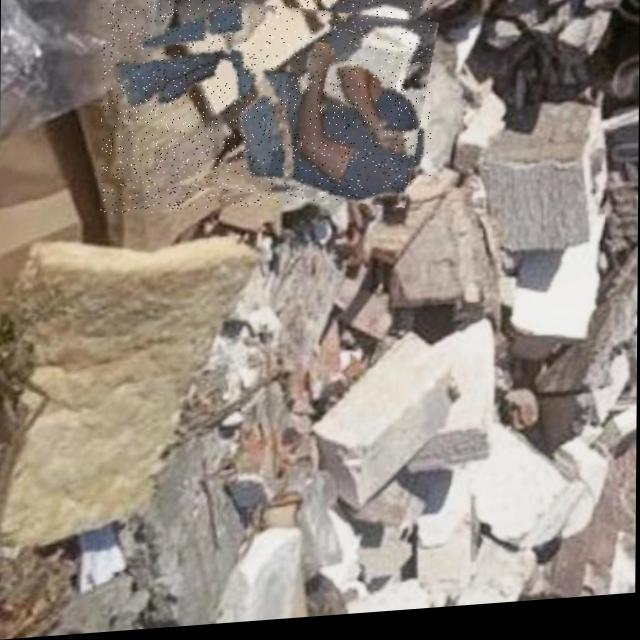Person in Rubble: (100, 0, 431, 219)
